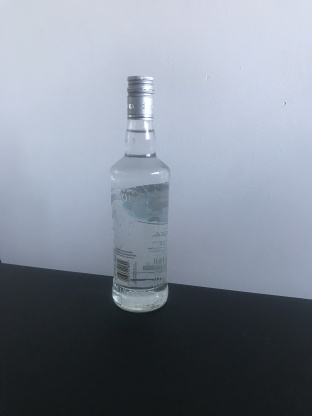nakretka: (125, 74, 156, 121)
